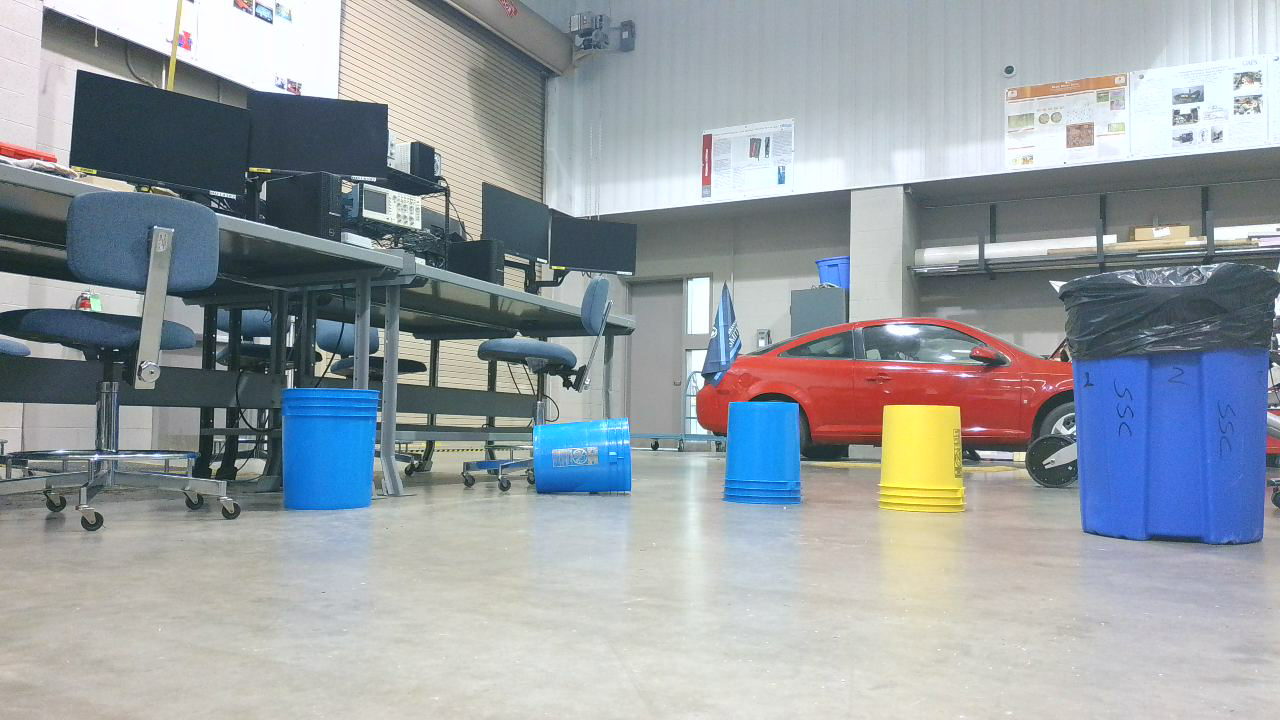blue_bucket: (281, 389, 388, 519), (722, 402, 811, 514), (534, 419, 640, 503)
yellow_bucket: (879, 405, 975, 523)
